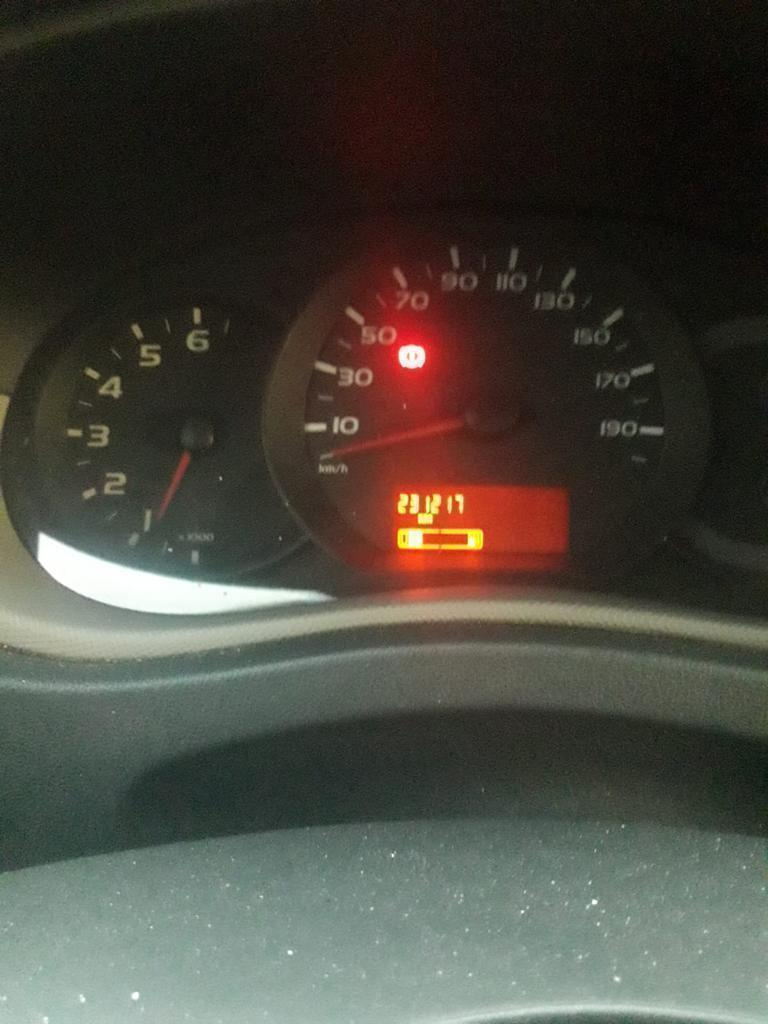1: (423, 493, 430, 513), (446, 493, 452, 514)
2: (396, 492, 408, 514), (430, 492, 441, 514)
3: (409, 493, 419, 514)
7: (453, 492, 464, 513)
X: (424, 513, 433, 524), (417, 513, 423, 524)
odometer: (385, 478, 575, 562)
